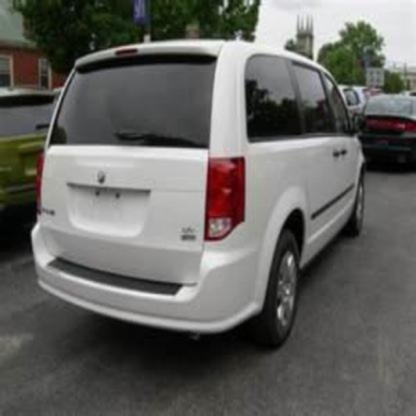Vehicle: (29, 35, 370, 342)
